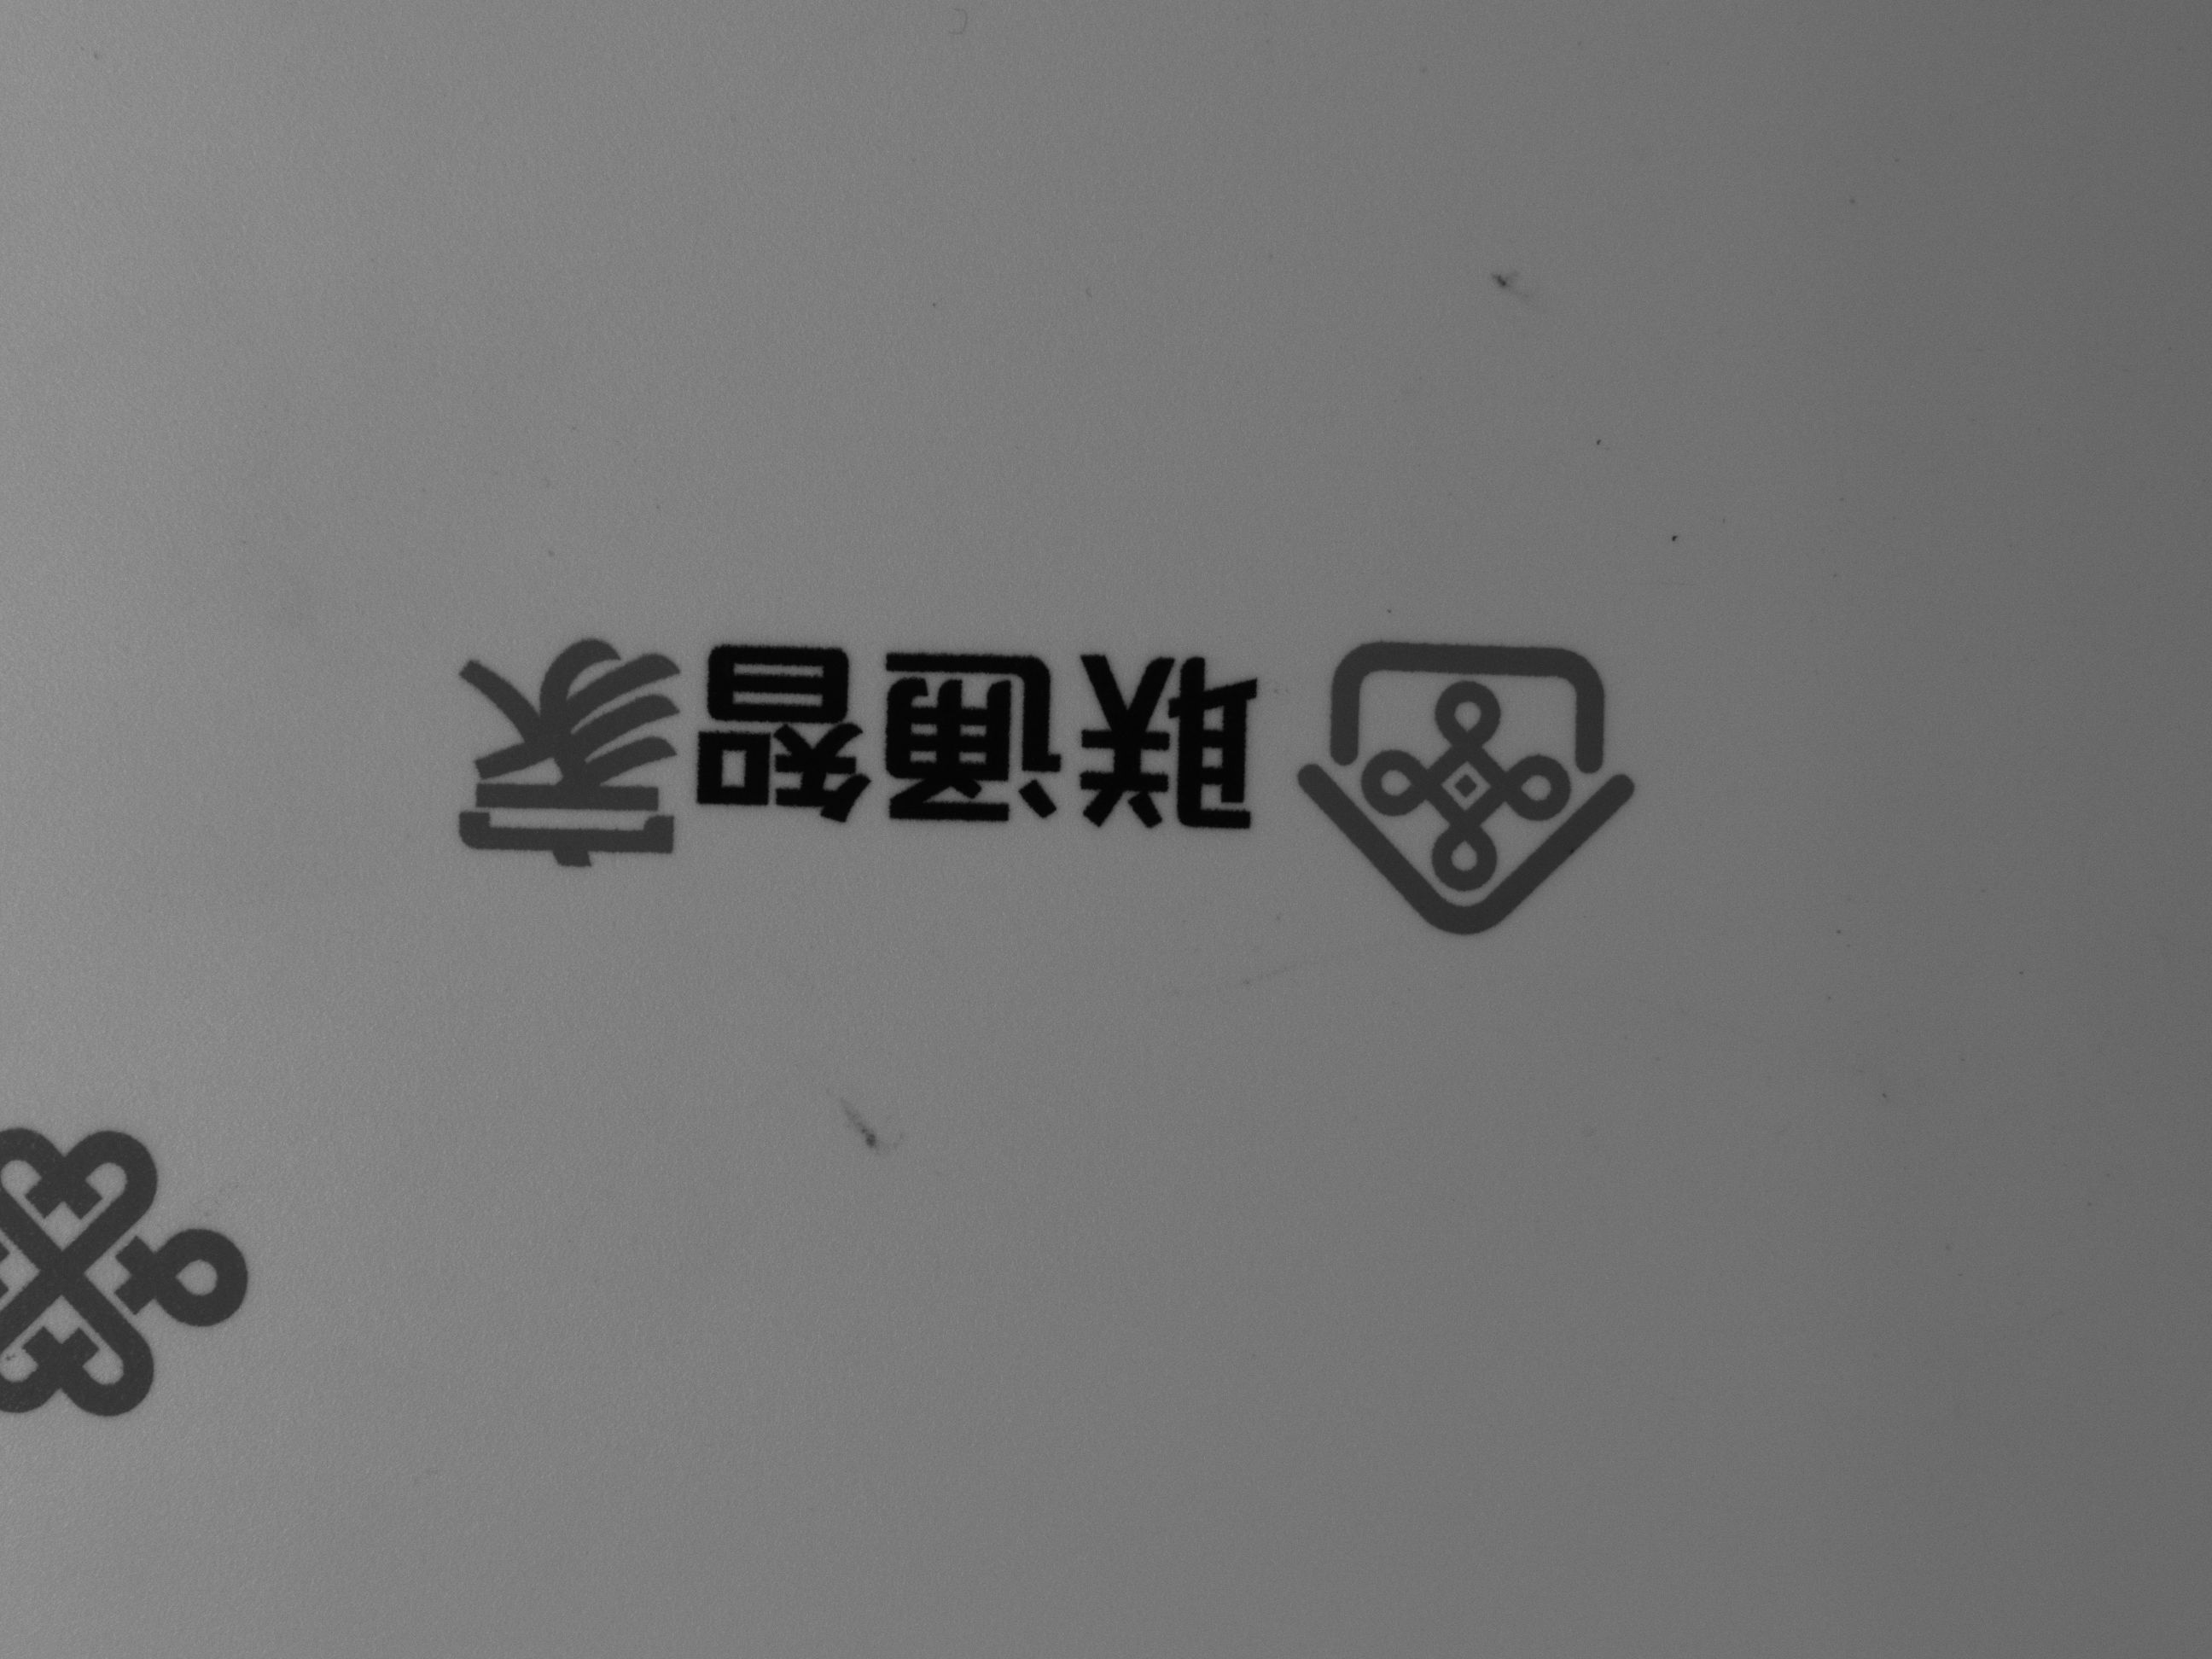BY_F6610Unicome: (415, 587, 1665, 951)
